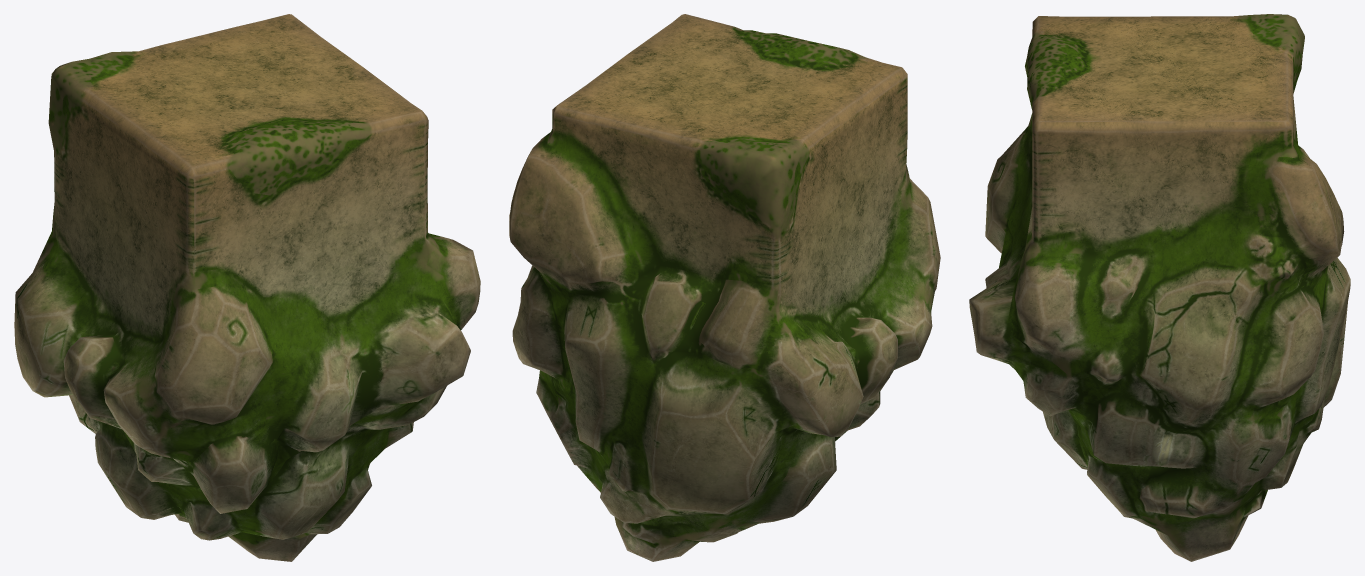
Rendered from Rune_03_low_01.fbx.
The picture shows the model from 3 angles, left to right: view 1: azimuth 30°, elevation 25°; view 2: azimuth 150°, elevation 25°; view 3: azimuth 270°, elevation 25°; orthographic projection. The views are drawn at different scales.
Visible parts, largest first — view 1: Rune_03_low_01; view 2: Rune_03_low_01; view 3: Rune_03_low_01.
Part boxes in pixels (x1,y1,x2,y2): Rune_03_low_01: (14, 14, 480, 561); Rune_03_low_01: (509, 14, 940, 561); Rune_03_low_01: (969, 14, 1350, 561).
Bounding box in the file's own units: 2.97 × 3.96 × 2.93.
1 material, 1 textured.
